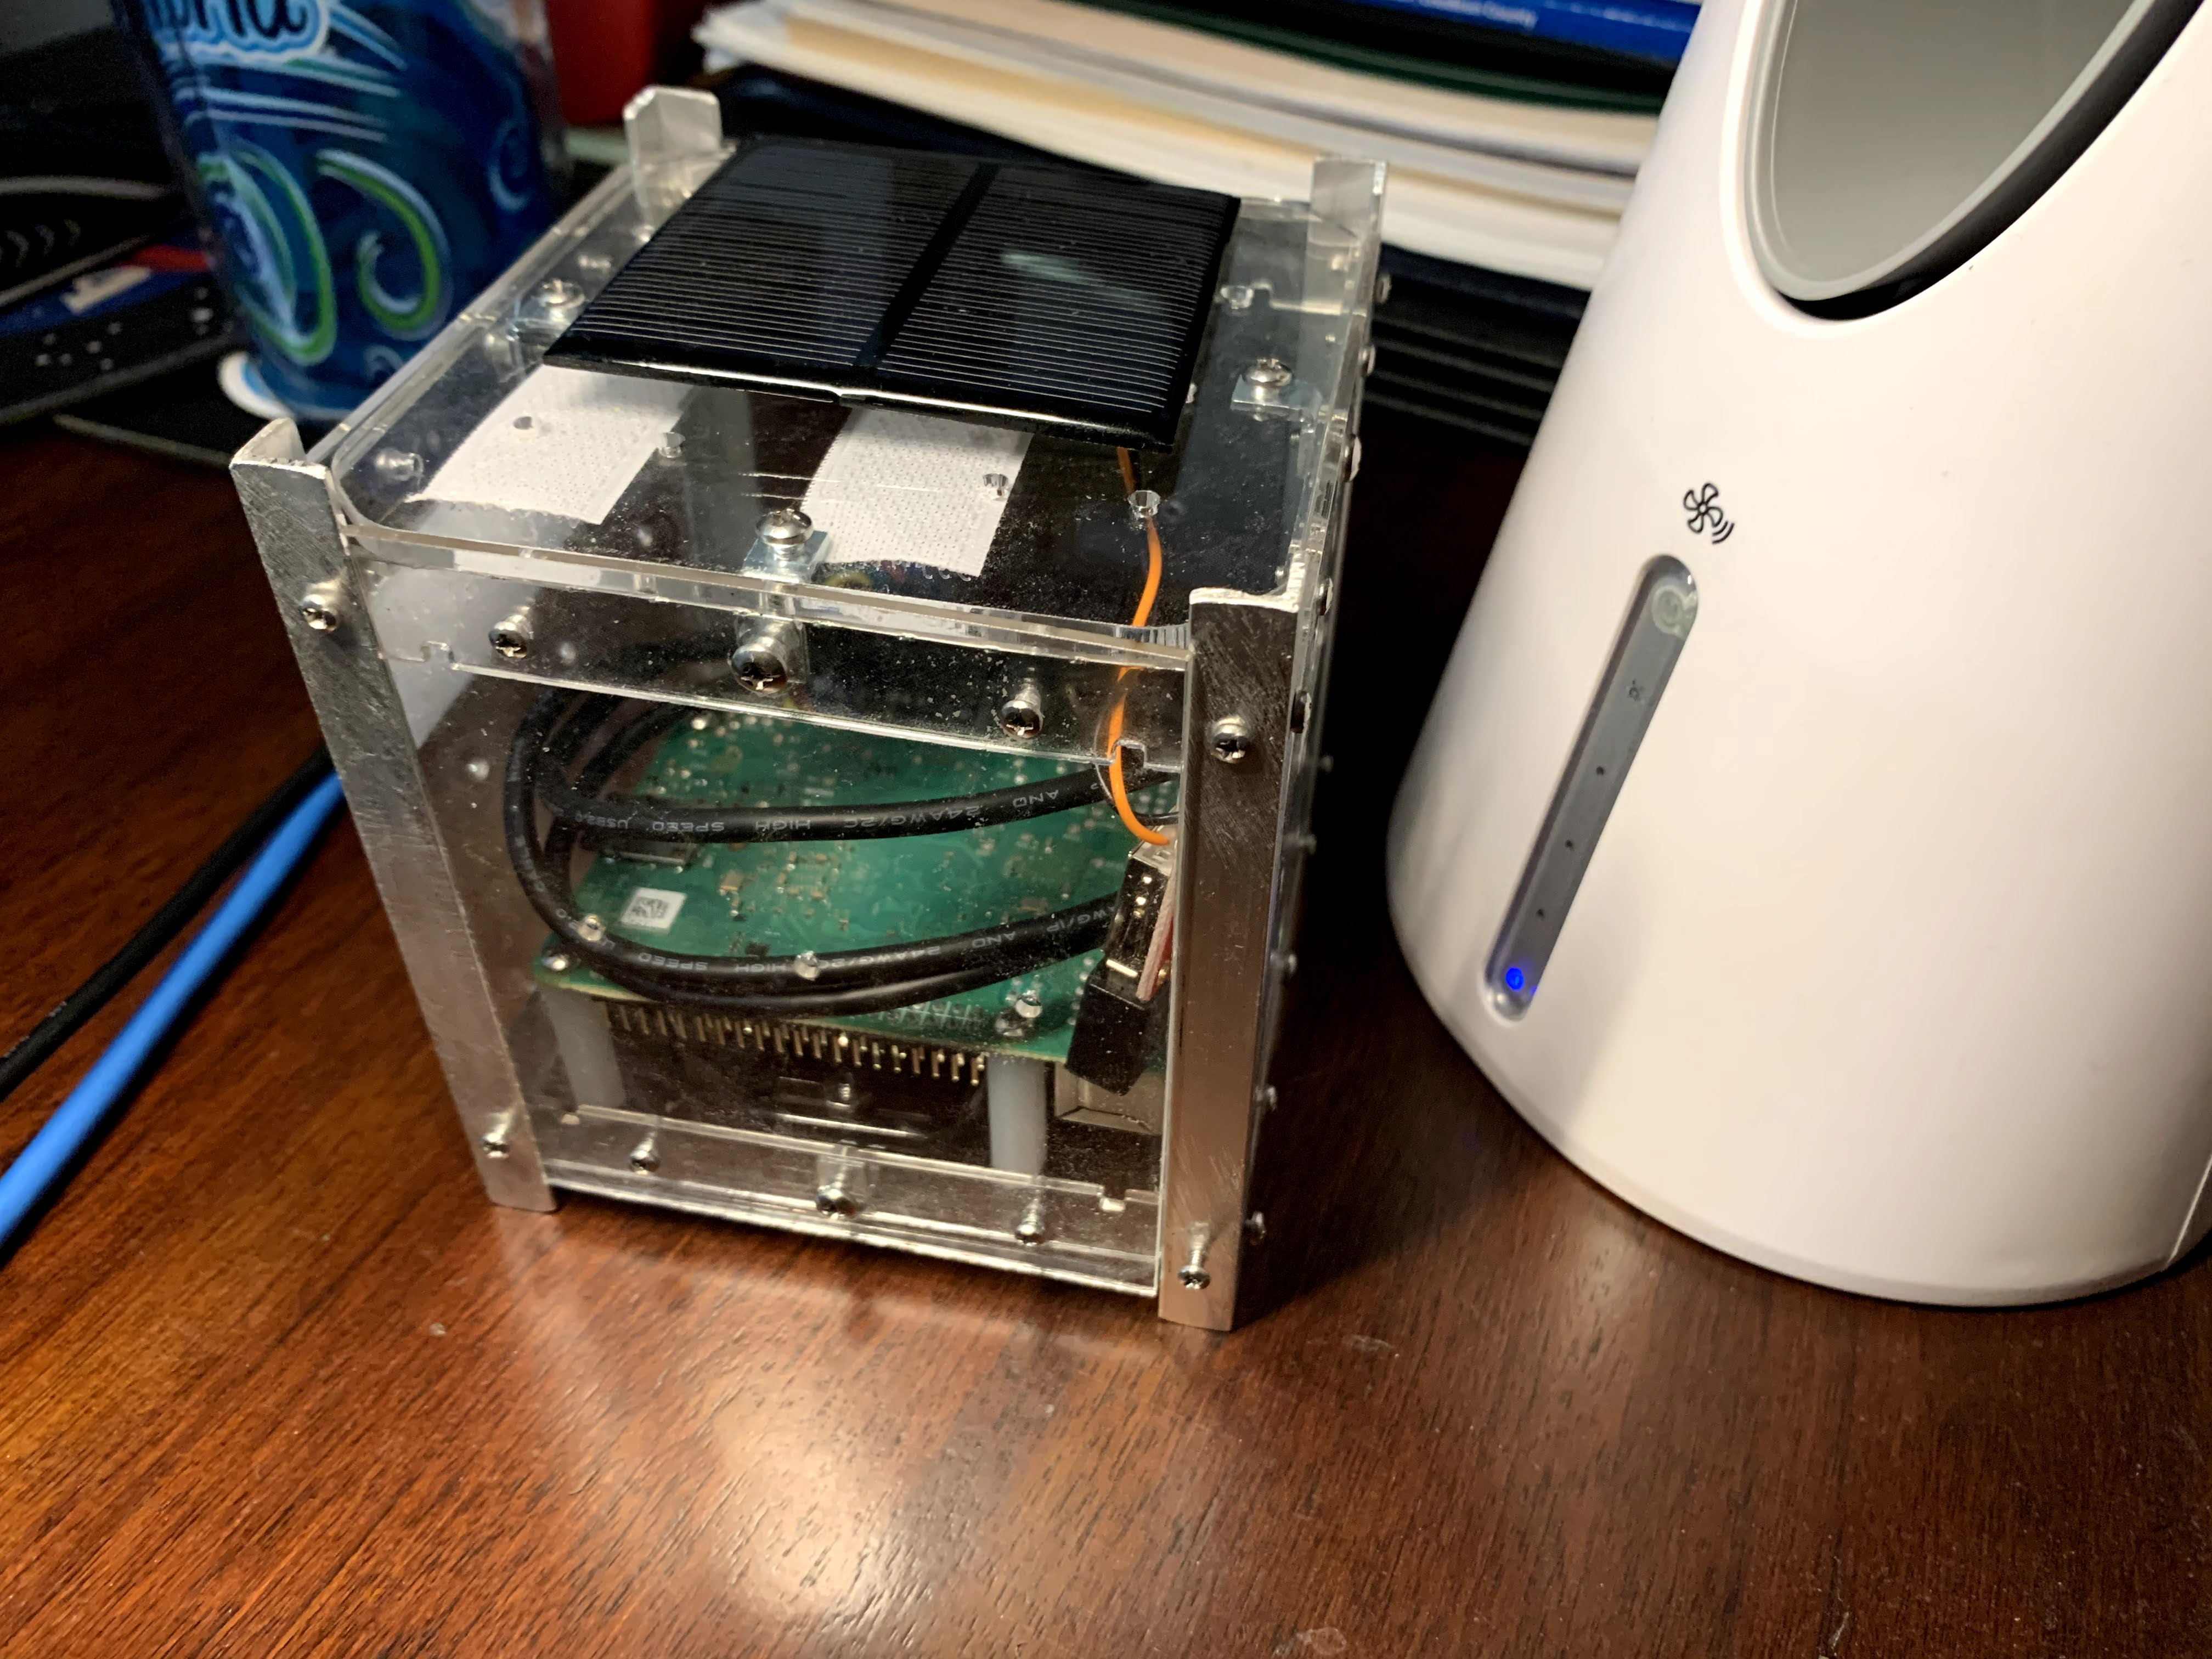Space-debris-cubesat: (244, 63, 1426, 1370)
